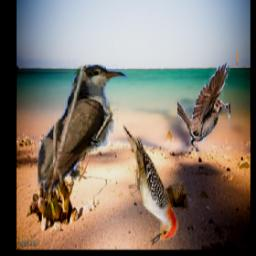Cuckoo: (37, 65, 147, 192)
Sparrow: (177, 64, 230, 153)
Woodpecker: (123, 122, 178, 246)
